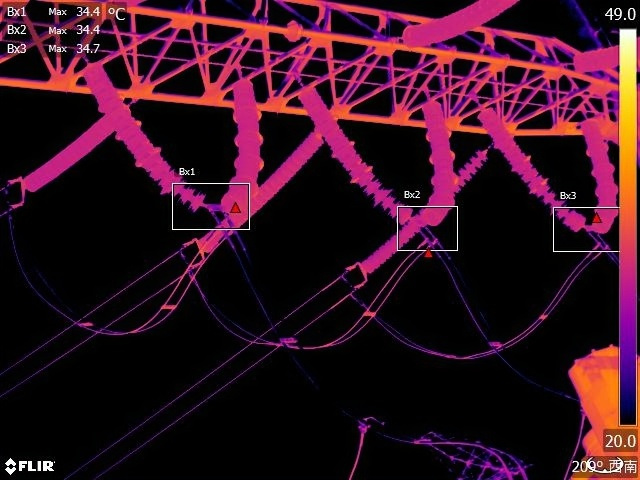clamp: (176, 241, 199, 283), (339, 269, 358, 303), (1, 175, 16, 218), (589, 238, 615, 258), (416, 233, 443, 252)
insulator: (81, 56, 205, 209), (477, 94, 587, 236), (300, 83, 409, 224), (203, 127, 323, 252), (26, 115, 116, 195), (219, 69, 263, 220), (401, 1, 530, 52), (353, 210, 436, 282), (420, 95, 461, 227), (584, 111, 618, 233), (566, 32, 640, 75), (455, 143, 489, 199)
